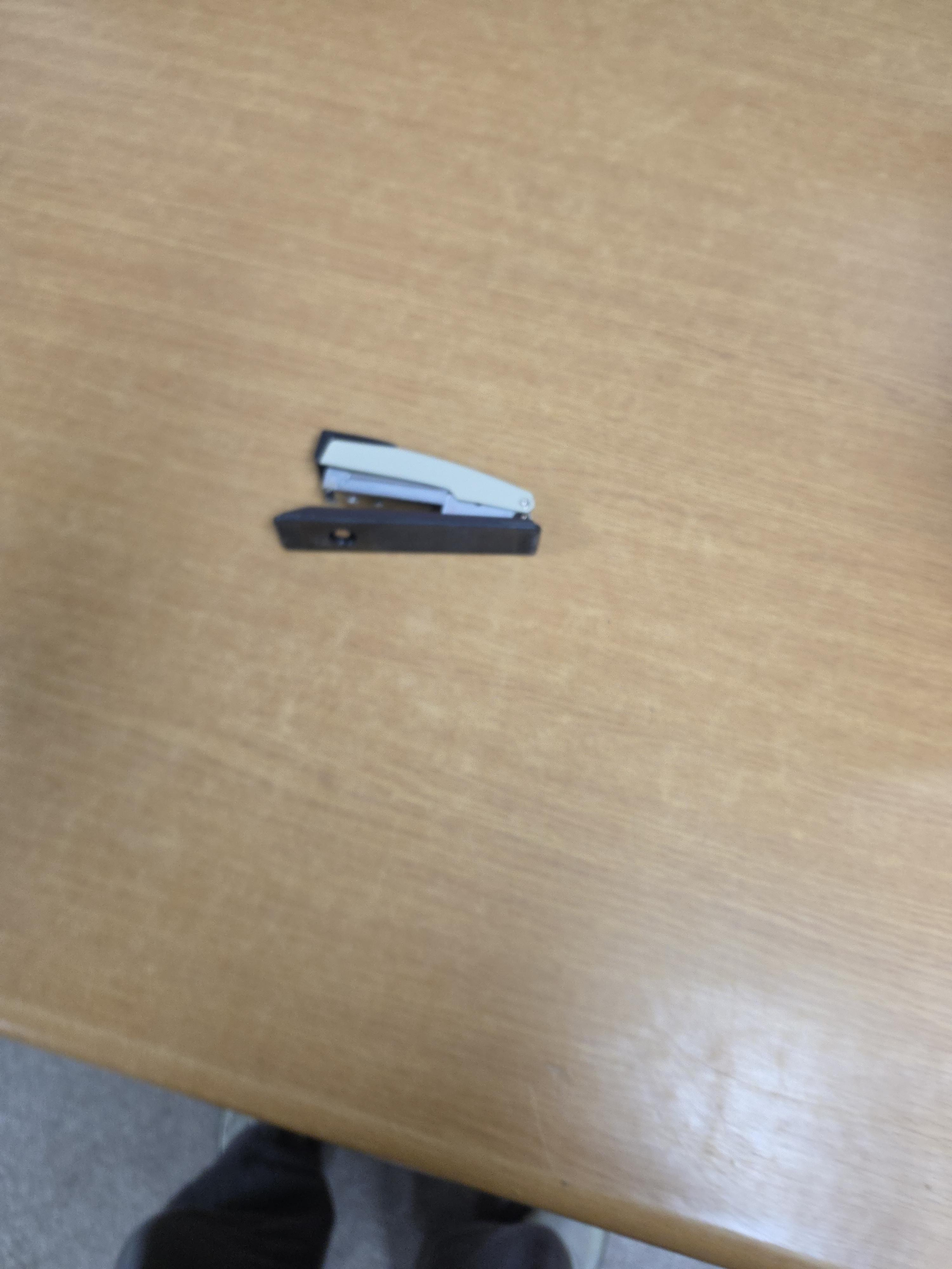stapler: (272, 430, 542, 557)
